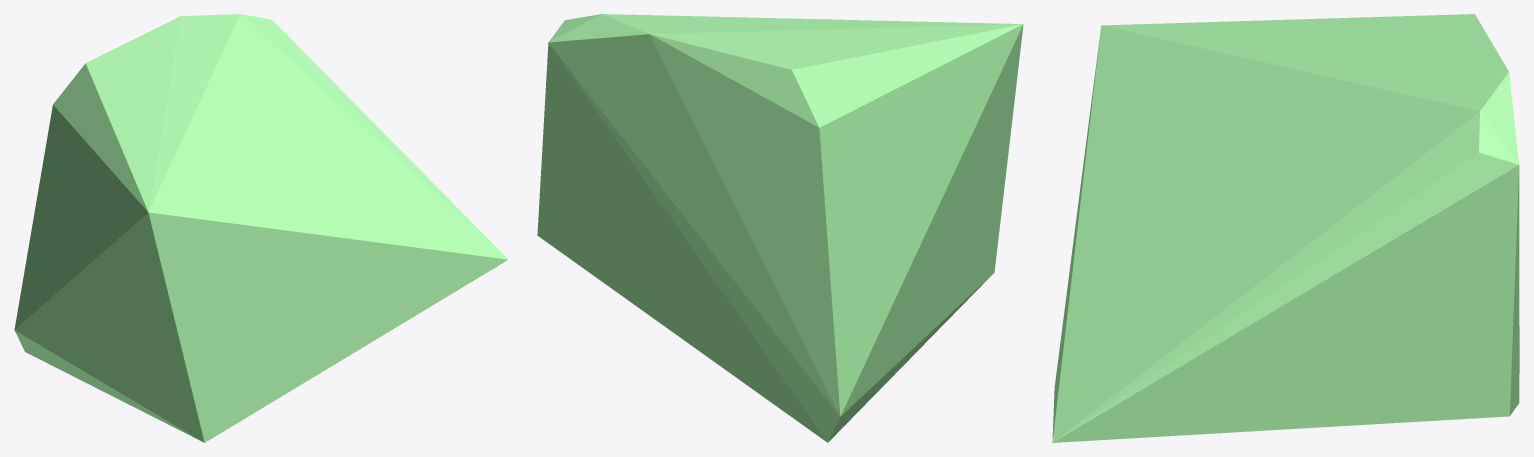
File: linkhou_robot_base_coll_27.dae
3 views of the same model, side by side, from view 1: azimuth 30°, elevation 25°; view 2: azimuth 150°, elevation 25°; view 3: azimuth 270°, elevation 25° (orthographic). The views are drawn at different scales.
Visible parts, largest first — view 1: Node_0000029808438130; view 2: Node_0000029808438130; view 3: Node_0000029808438130.
Part boxes in pixels (x1,y1,x2,y2): Node_0000029808438130: [14, 14, 508, 442]; Node_0000029808438130: [537, 14, 1023, 442]; Node_0000029808438130: [1052, 14, 1519, 442].
Size of the model in its own units: 0.2011 by 0.1687 by 0.1625.
